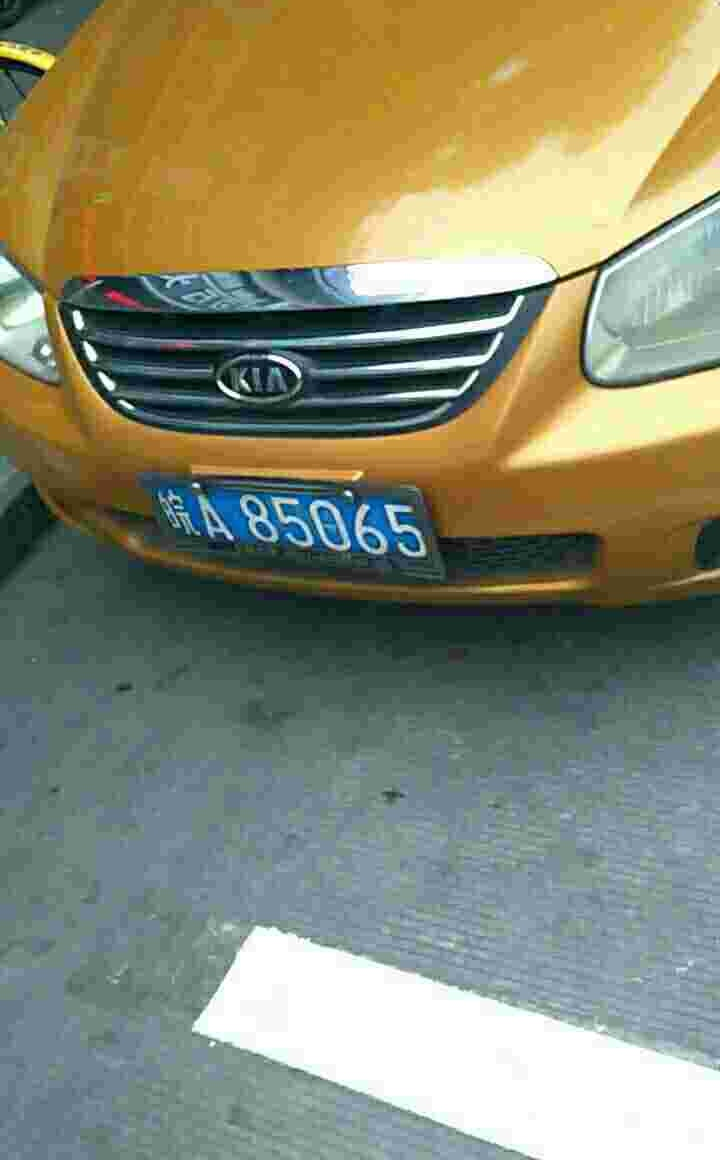car: (147, 472, 436, 571)
